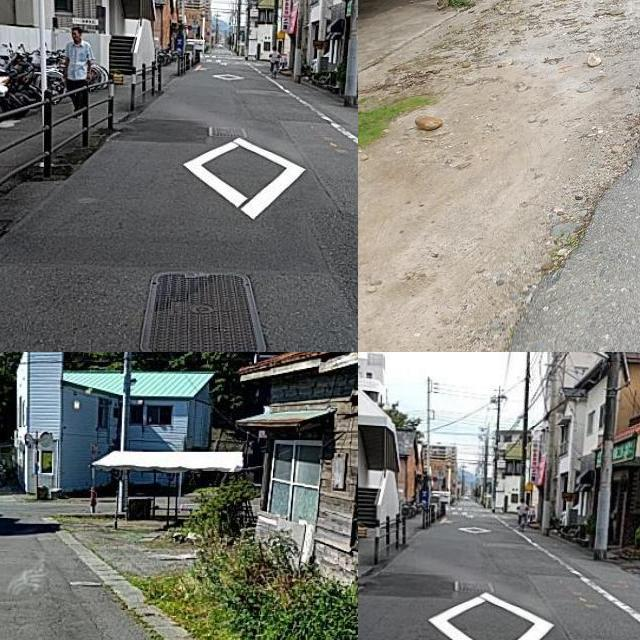Pinggir: (467, 19, 640, 352)
Sambungan: (145, 274, 262, 352), (358, 569, 453, 597), (118, 116, 209, 143)
